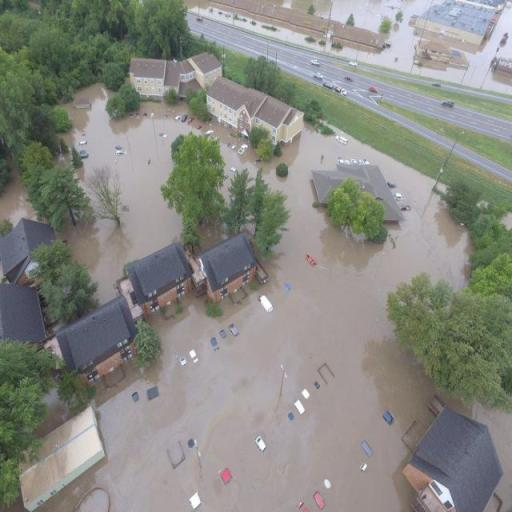flood: (36, 122, 471, 512), (59, 85, 201, 304), (448, 402, 512, 512), (0, 176, 34, 224)
house: (402, 401, 508, 512), (17, 398, 111, 504), (44, 293, 141, 376), (208, 75, 304, 151), (123, 236, 189, 310), (410, 0, 512, 46), (195, 229, 262, 299), (1, 216, 59, 292), (129, 55, 190, 100), (2, 283, 44, 346), (311, 158, 359, 208)
